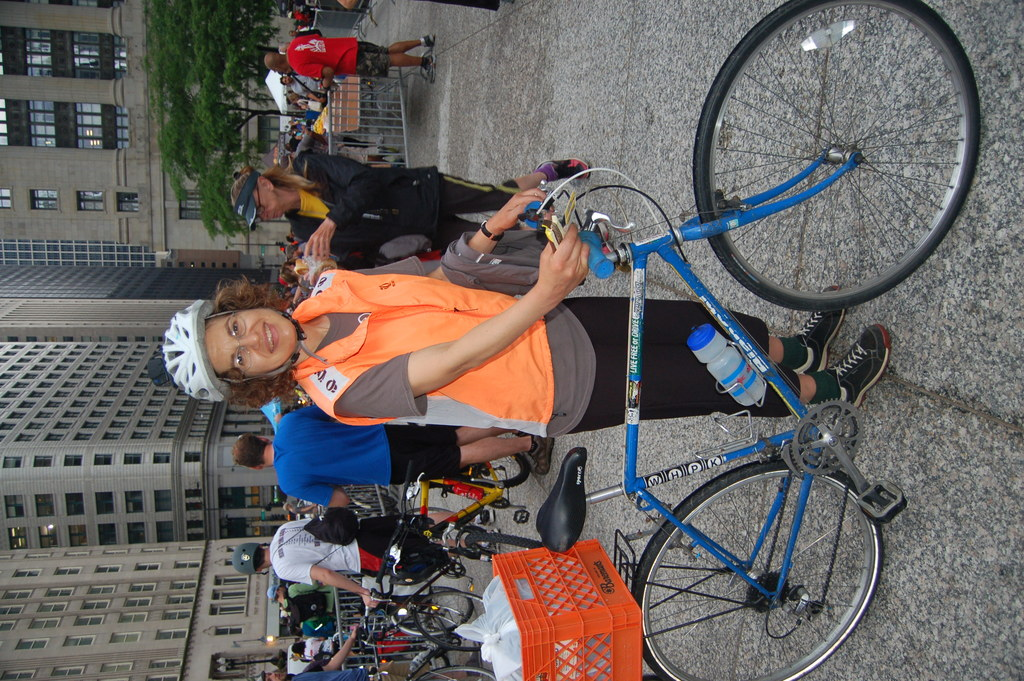Bicycle: (538, 0, 982, 680), (318, 453, 530, 680)
